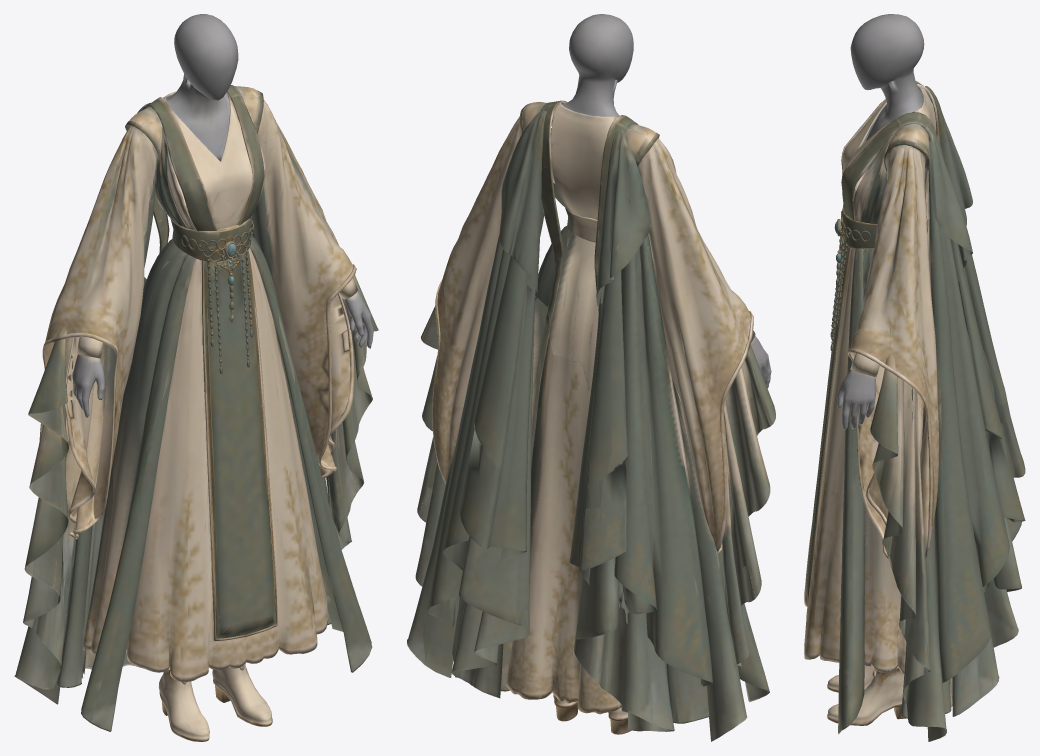
File: gown.glb
3 renders of one model, left to right at view 1: azimuth 30°, elevation 25°; view 2: azimuth 150°, elevation 25°; view 3: azimuth 270°, elevation 25°, orthographic. The views are drawn at different scales.
Parts seen in each view (by area): view 1: tripo_part_0; view 2: tripo_part_0; view 3: tripo_part_0.
Boxes of the visible parts, x1,y1,x2,y2 form: tripo_part_0: [14, 14, 378, 741]; tripo_part_0: [407, 14, 775, 741]; tripo_part_0: [804, 14, 1025, 741].
Size of the model in its own units: 0.5262 by 1 by 0.2922.
Materials: 1 (1 with a texture image).
